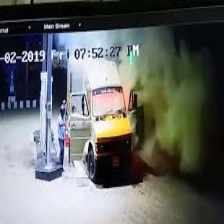smoke: (121, 54, 205, 167)
